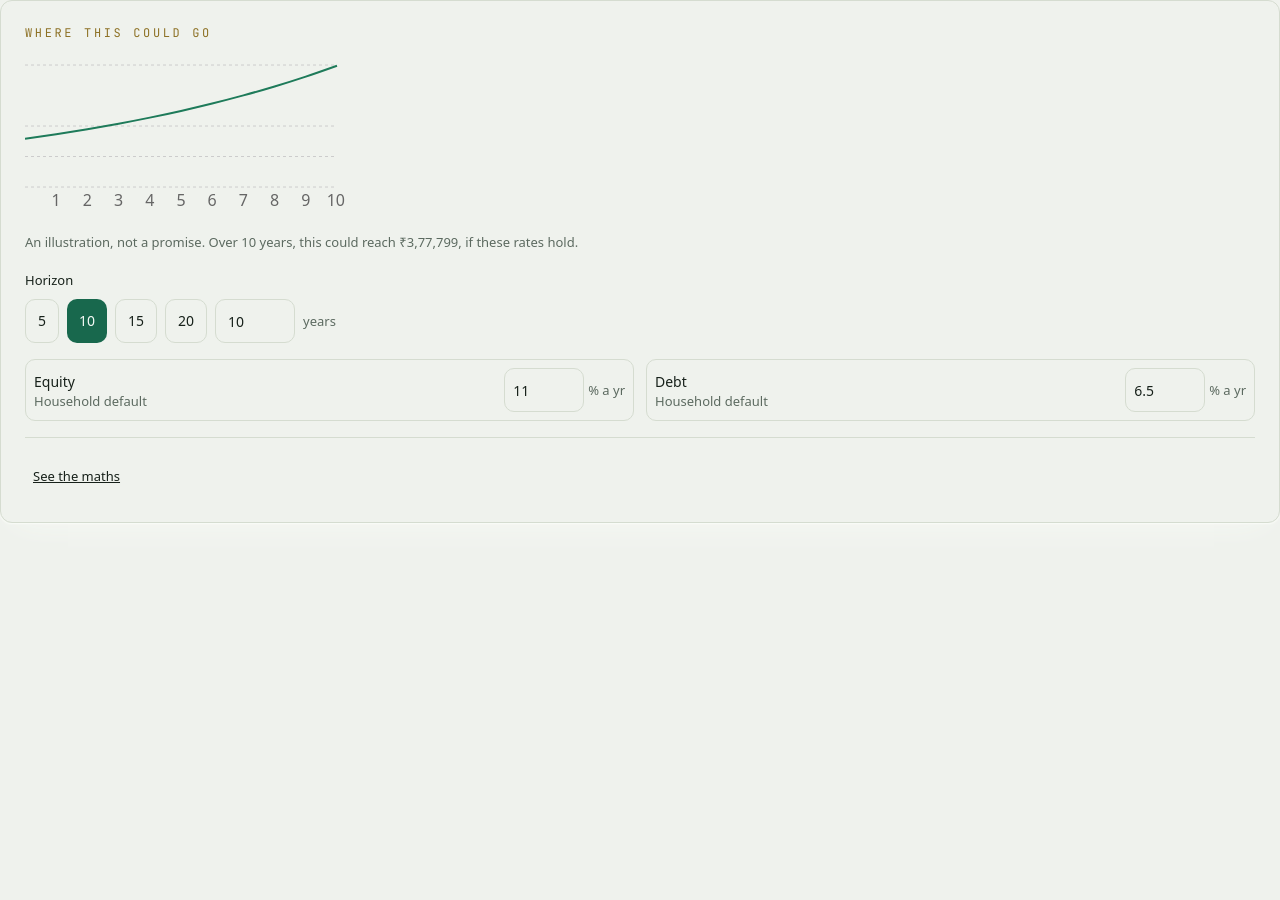
Test case: ProjectionPanel › "See the maths" disclosure panel (E9) › renders a toggle, closed by default, that reveals a disclosure panel without hiding the chart
Expected: the element with test id "rate-row-equity" is shown, [25, 359, 634, 421]
Click the button "See the maths". click: (76,476)
box: [25, 454, 128, 498]
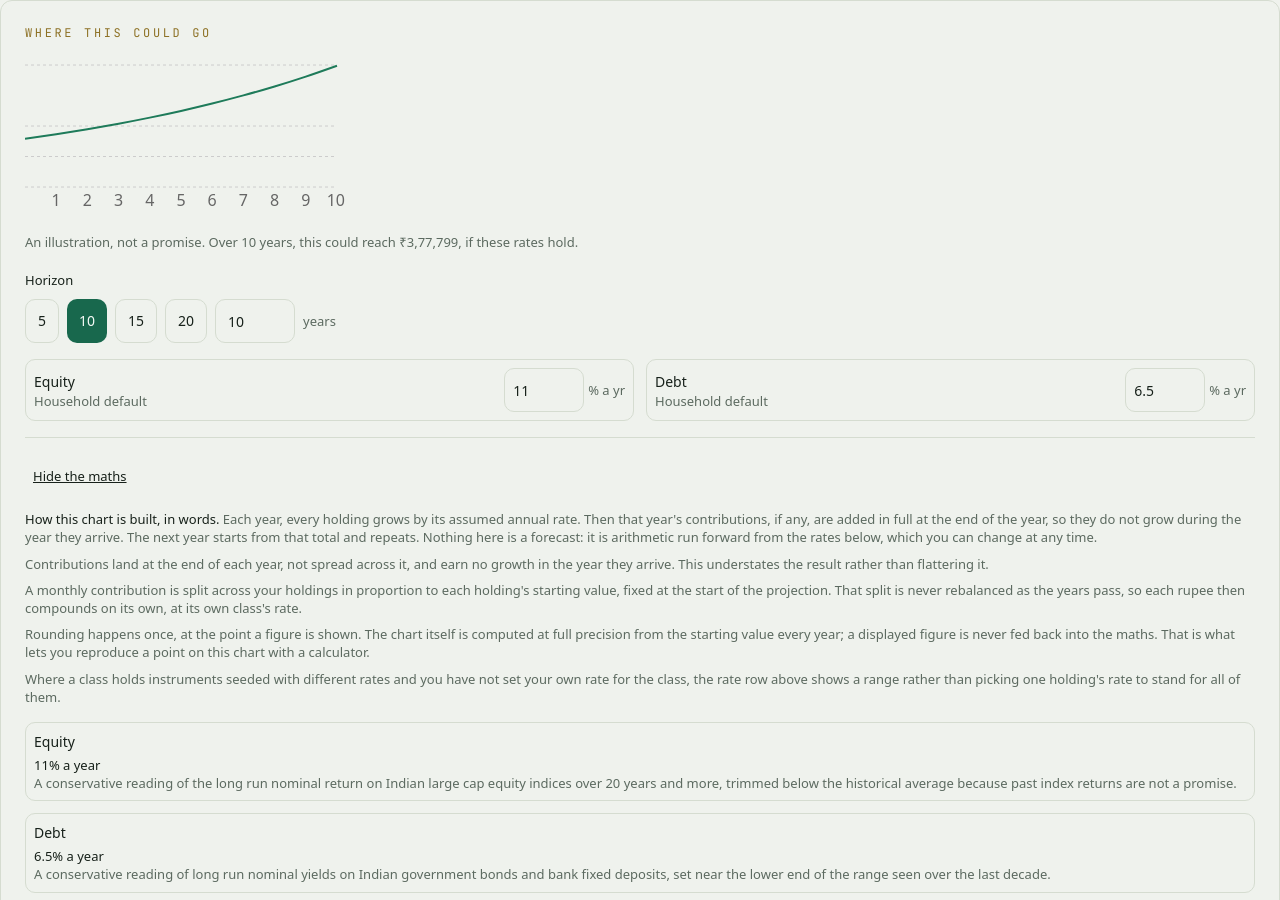
Expected: the element with test id "projection-chart-container" is shown, [25, 57, 345, 217]
Expected: the button named "see the maths" is expanded, [25, 454, 134, 498]
Expected: the element with test id "see-the-maths-panel" is shown, [25, 510, 1255, 893]
